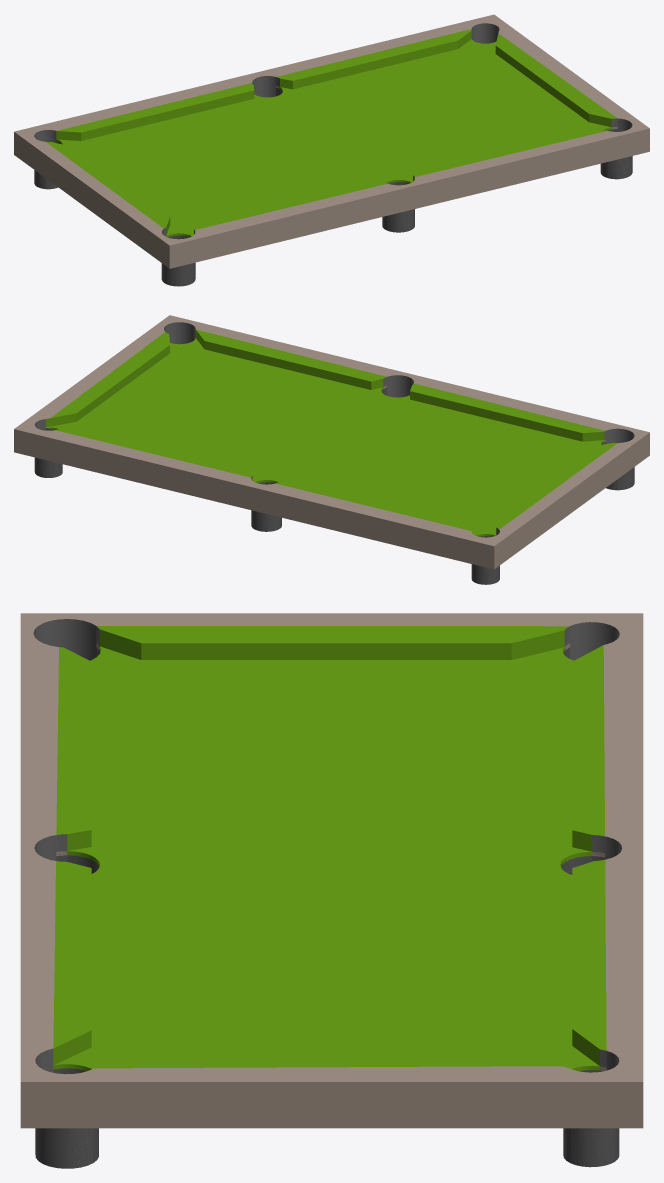
File: noballs.glb
3 views of the same model, one above another, from view 1: azimuth 30°, elevation 25°; view 2: azimuth 150°, elevation 25°; view 3: azimuth 270°, elevation 25° (orthographic). The views are drawn at different scales.
Visible parts, largest first — view 1: SketchUp.026, SketchUp.001, SketchUp.019, SketchUp.017, SketchUp, SketchUp.020, SketchUp.016, SketchUp.015, SketchUp.027, SketchUp.021, SketchUp.029, SketchUp.010 (+1 smaller); view 2: SketchUp.026, SketchUp.001, SketchUp.016, SketchUp.015, SketchUp, SketchUp.020, SketchUp.017, SketchUp.019, SketchUp.008, SketchUp.028, SketchUp.007, SketchUp.031 (+1 smaller); view 3: SketchUp.026, SketchUp.001, SketchUp.020, SketchUp.016, SketchUp, SketchUp.015, SketchUp.017, SketchUp.019, SketchUp.029, SketchUp.030, SketchUp.006, SketchUp.004.
Part boxes in pixels (x1,y1,x2,y2): SketchUp.026: (56, 39, 611, 237); SketchUp.001: (14, 14, 649, 268); SketchUp.019: (56, 83, 254, 140); SketchUp.017: (277, 29, 471, 89); SketchUp: (495, 33, 616, 127); SketchUp.020: (46, 142, 170, 235); SketchUp.016: (413, 128, 606, 176); SketchUp.015: (194, 178, 387, 229); SketchUp.027: (161, 235, 195, 286); SketchUp.021: (382, 182, 414, 232); SketchUp.029: (600, 129, 632, 179); SketchUp.010: (471, 23, 499, 43); SketchUp.026: (49, 338, 604, 536); SketchUp.001: (14, 315, 649, 569); SketchUp.016: (195, 329, 386, 389); SketchUp.015: (410, 383, 604, 441); SketchUp: (45, 332, 169, 427); SketchUp.020: (496, 442, 617, 529); SketchUp.017: (55, 429, 252, 477); SketchUp.019: (275, 479, 470, 530); SketchUp.008: (164, 322, 195, 344); SketchUp.028: (251, 482, 281, 531); SketchUp.007: (383, 375, 413, 397); SketchUp.031: (471, 536, 499, 584); SketchUp.026: (53, 646, 599, 1071); SketchUp.001: (20, 613, 643, 1128); SketchUp.020: (97, 626, 568, 659); SketchUp.016: (53, 861, 91, 1065); SketchUp: (94, 1052, 561, 1068); SketchUp.015: (56, 647, 91, 850); SketchUp.017: (572, 859, 606, 1065); SketchUp.019: (572, 645, 604, 851); SketchUp.029: (35, 1068, 98, 1168); SketchUp.030: (563, 1070, 619, 1167); SketchUp.006: (33, 619, 99, 660); SketchUp.004: (564, 622, 619, 660).
Size of the model in its own units: 7.62 by 0.7176 by 4.28.
